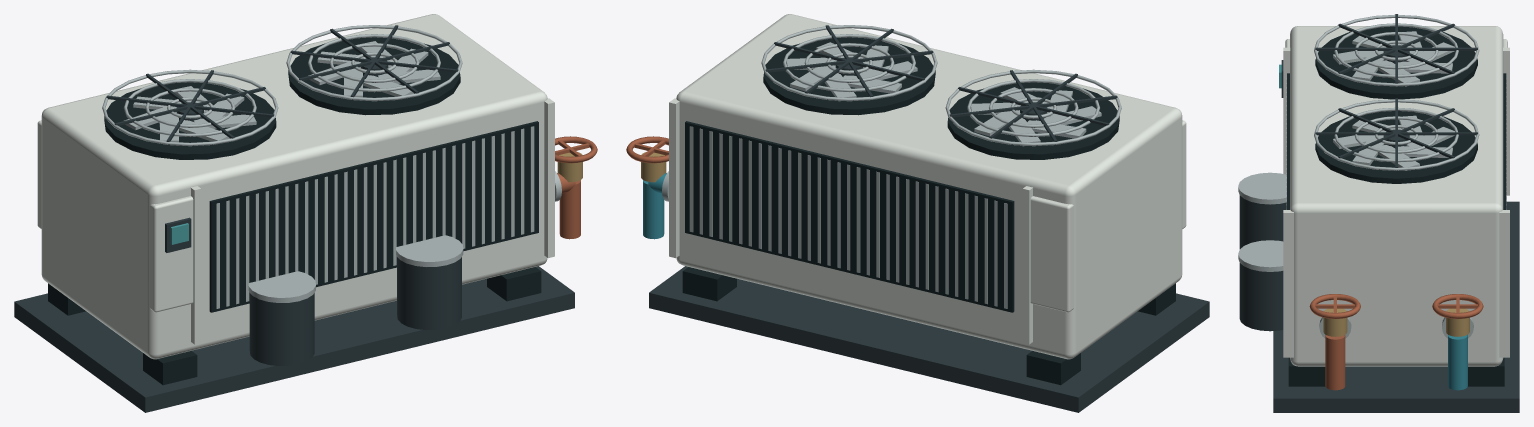
Rendered from chiller.glb.
3 renders of one model, left to right at view 1: azimuth 30°, elevation 25°; view 2: azimuth 150°, elevation 25°; view 3: azimuth 270°, elevation 25°, orthographic. The views are drawn at different scales.
Parts seen in each view (by area): view 1: Ivory enamel, Rubber and coil fins, Powder coated graphite, Brushed stainless steel, Return water / terracotta; view 2: Ivory enamel, Rubber and coil fins, Powder coated graphite, Brushed stainless steel, Chilled water / blue, Return water / terracotta; view 3: Ivory enamel, Powder coated graphite, Brushed stainless steel, Rubber and coil fins, Return water / terracotta, Chilled water / blue, Valve brass.
Boxes of the visible parts, left/top/right/bottom form: Ivory enamel: left=37, top=14, right=554, bottom=359; Rubber and coil fins: left=48, top=37, right=541, bottom=385; Powder coated graphite: left=14, top=25, right=574, bottom=412; Brushed stainless steel: left=102, top=25, right=561, bottom=308; Return water / terracotta: left=555, top=136, right=597, bottom=239; Ivory enamel: left=669, top=14, right=1186, bottom=359; Rubber and coil fins: left=682, top=37, right=1175, bottom=385; Powder coated graphite: left=649, top=25, right=1209, bottom=412; Brushed stainless steel: left=662, top=25, right=1121, bottom=308; Chilled water / blue: left=643, top=173, right=666, bottom=239; Return water / terracotta: left=626, top=136, right=668, bottom=163; Ivory enamel: left=1283, top=26, right=1509, bottom=366; Powder coated graphite: left=1239, top=14, right=1519, bottom=412; Brushed stainless steel: left=1238, top=14, right=1506, bottom=338; Rubber and coil fins: left=1287, top=26, right=1506, bottom=386; Return water / terracotta: left=1309, top=294, right=1483, bottom=390; Chilled water / blue: left=1448, top=334, right=1467, bottom=390; Valve brass: left=1323, top=308, right=1469, bottom=336.
Size of the model in its own units: 3.92 by 1.81 by 2.11.
